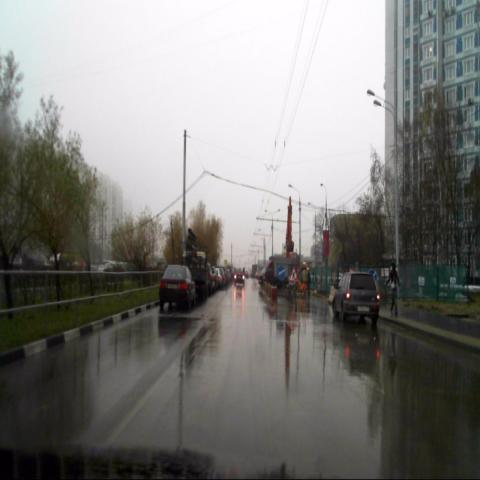1_25: (289, 266, 298, 283)
4_2_2: (277, 265, 285, 280)
